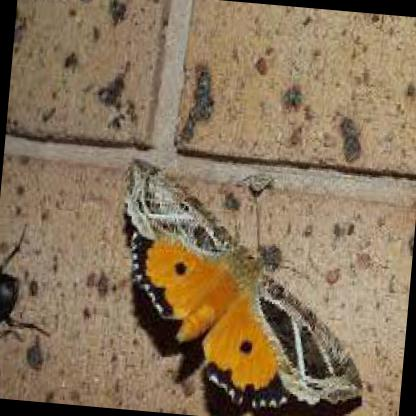fruit sucking moth: (124, 163, 364, 416)
